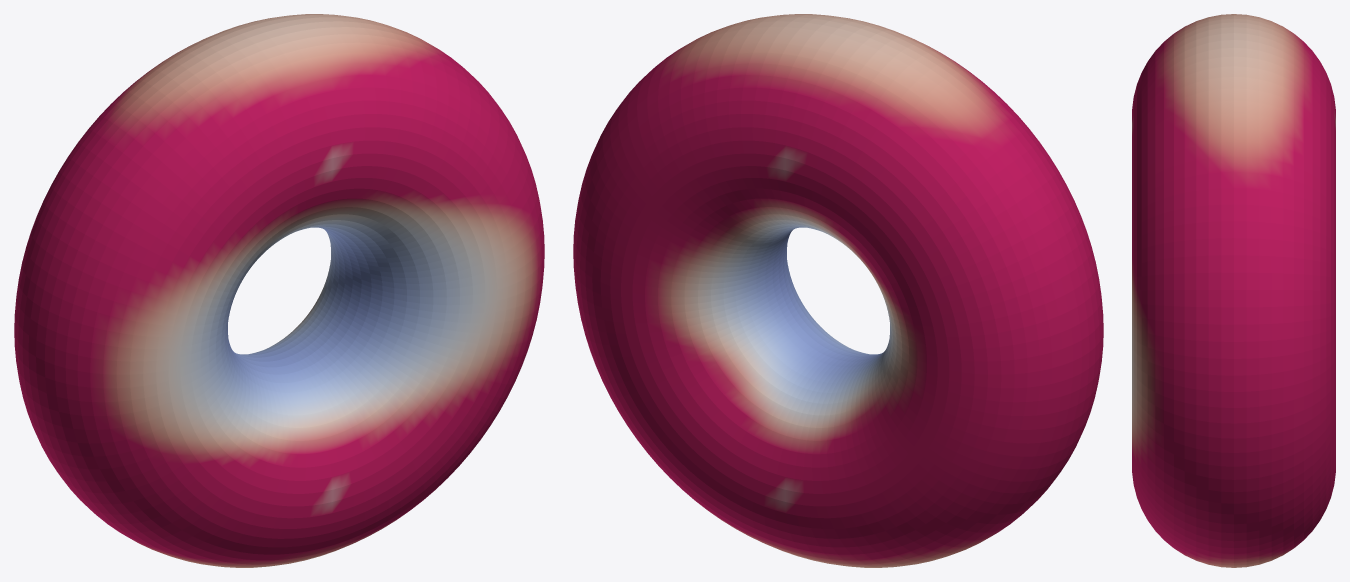
The picture shows the model from 3 angles, left to right: view 1: azimuth 30°, elevation 25°; view 2: azimuth 150°, elevation 25°; view 3: azimuth 270°, elevation 25°; orthographic projection. The views are drawn at different scales.
Visible parts, largest first — view 1: world; view 2: world; view 3: world.
Part boxes in pixels (x1,y1,x2,y2): world: (14,14,544,567); world: (573,14,1103,567); world: (1132,14,1335,567).
Bounding box in the file's own units: 26.4 × 26.4 × 9.71.
